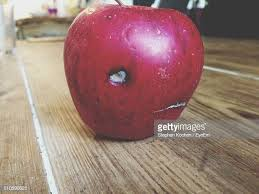damaged_apple: (64, 7, 204, 142)
